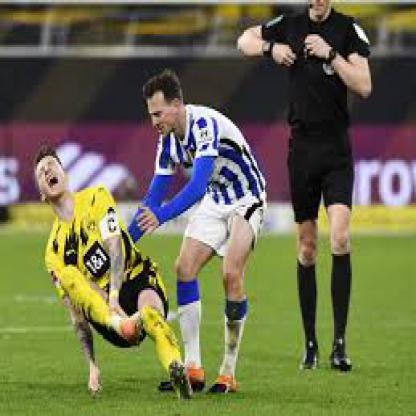Fall_Down: (29, 145, 196, 405)
